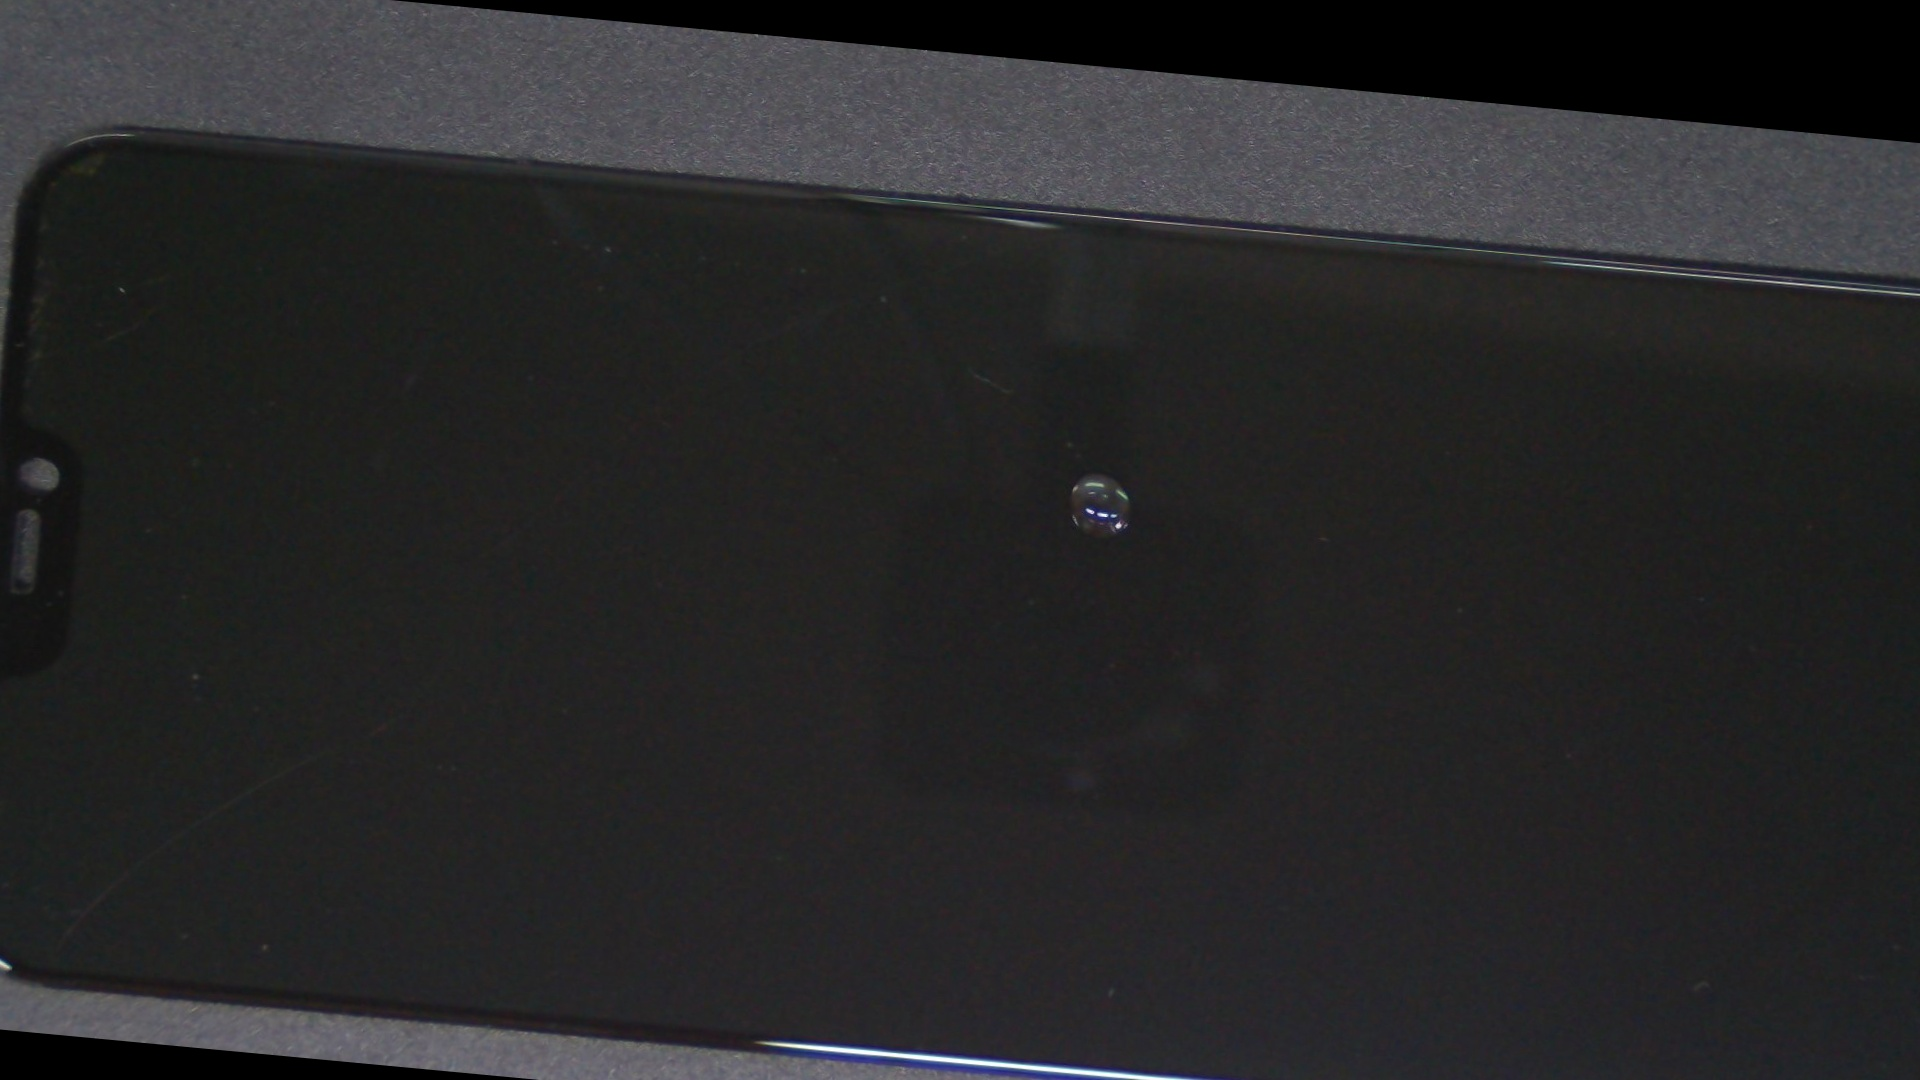oil: (510, 218, 1683, 728)
